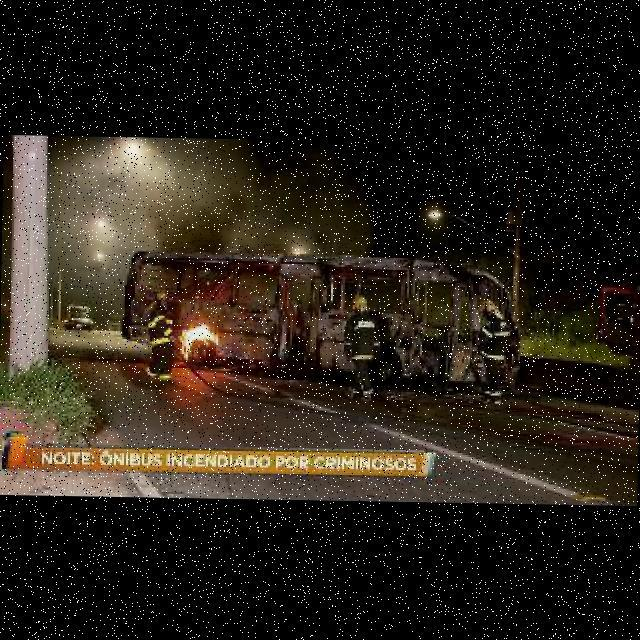Fire: (175, 322, 218, 361)
Smoke: (112, 166, 248, 263)
